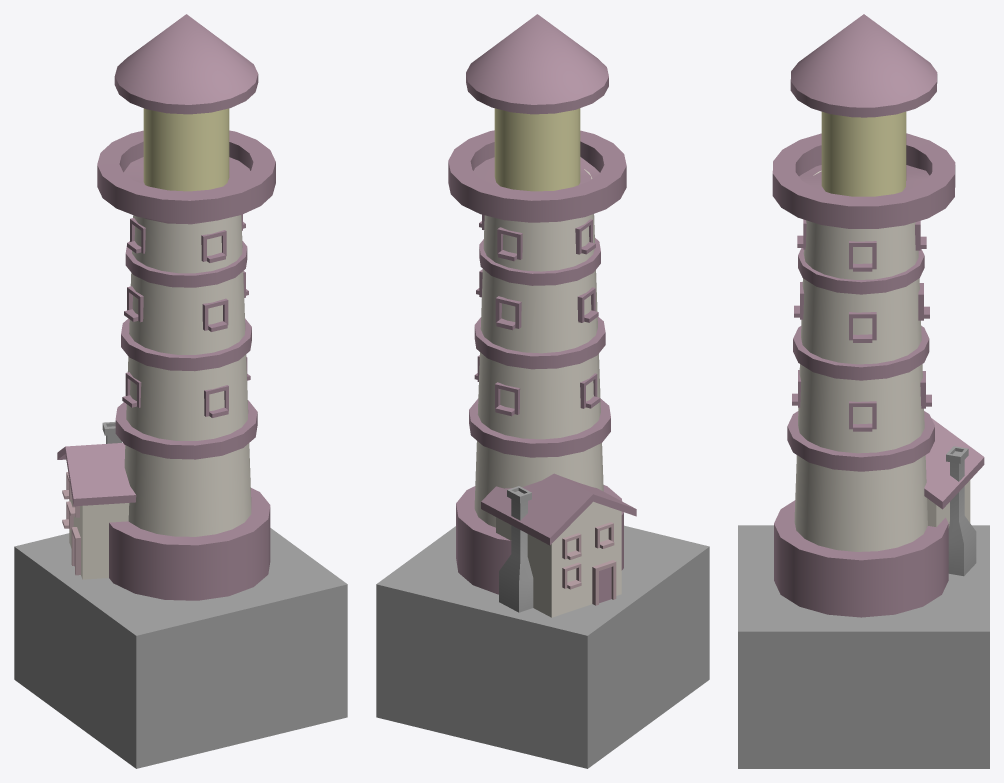
Rendered from SM_WatchTower_001.fbx.
3 renders of one model, left to right at view 1: azimuth 30°, elevation 25°; view 2: azimuth 150°, elevation 25°; view 3: azimuth 270°, elevation 25°, orthographic. The views are drawn at different scales.
Visible parts, largest first — view 1: SM_WatchTower_001; view 2: SM_WatchTower_001; view 3: SM_WatchTower_001.
Part boxes in pixels (x1,y1,x2,y2): SM_WatchTower_001: (14,14,347,768); SM_WatchTower_001: (376,14,709,768); SM_WatchTower_001: (738,14,989,768).
Bounding box in the file's own units: 1291 × 3986 × 1291.
